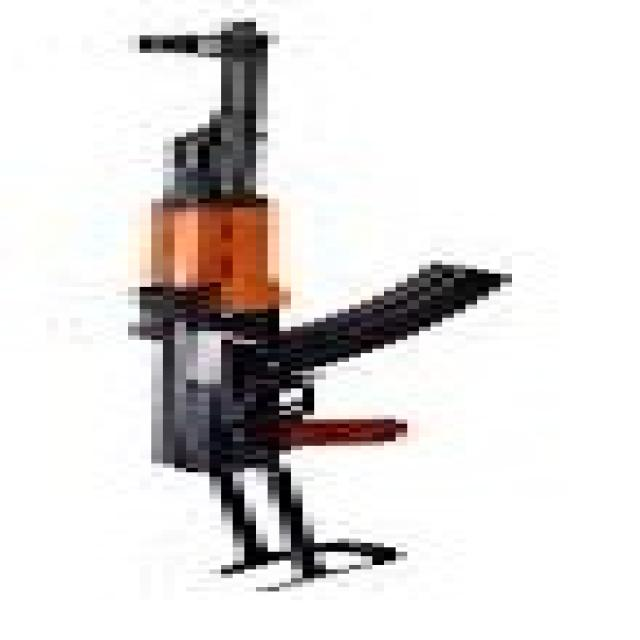rifle: (91, 19, 520, 597)
